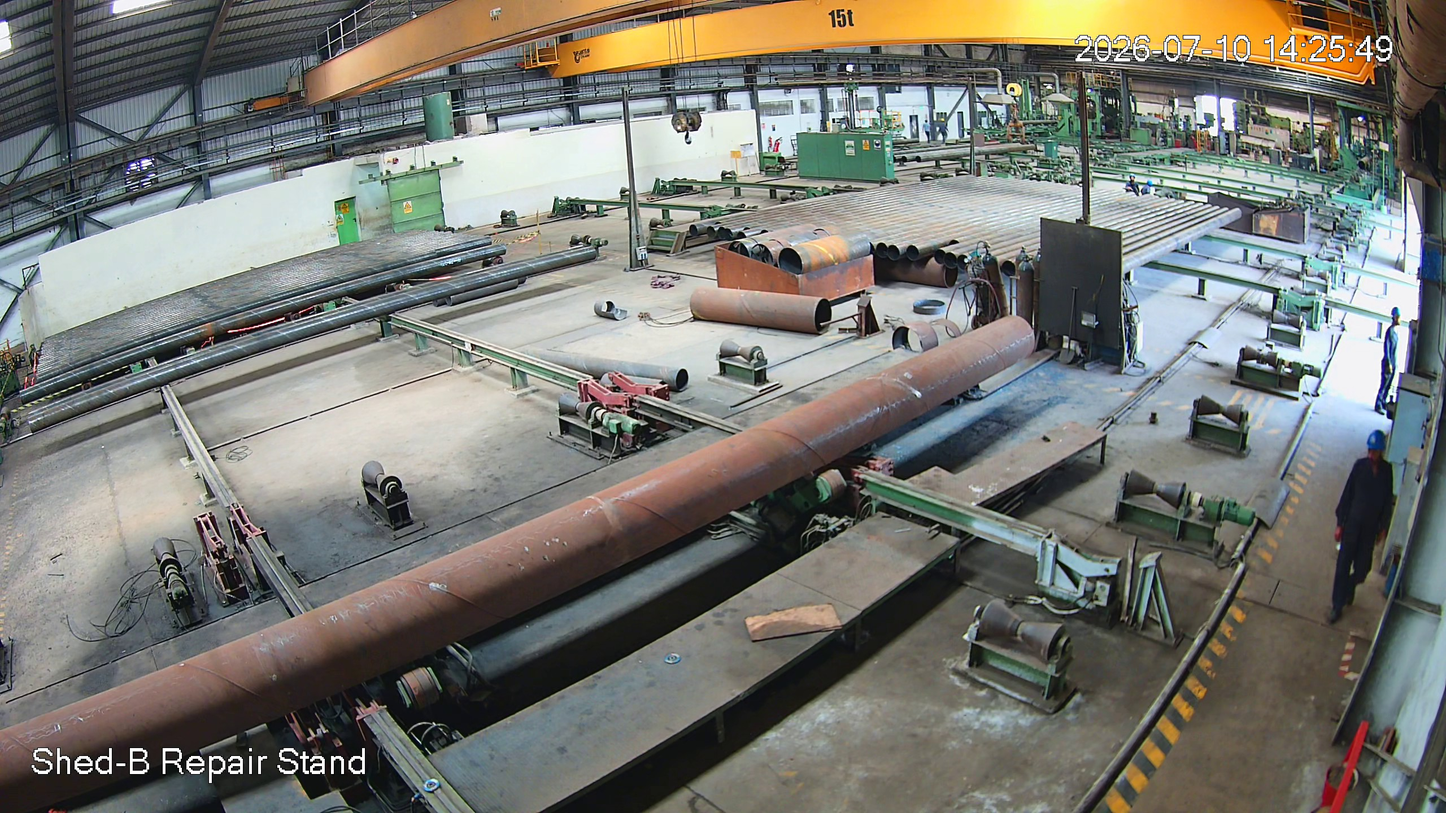Helmet: (1352, 420, 1393, 484)
Person: (1327, 424, 1409, 645)
